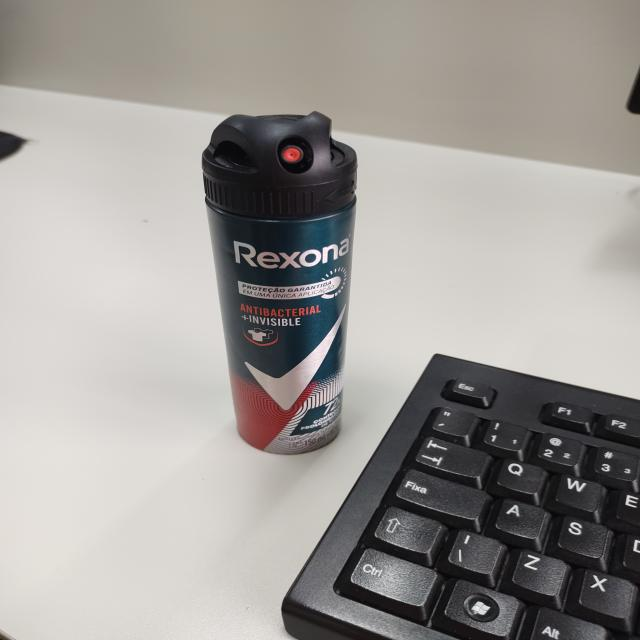Desodorante Azul: (202, 111, 357, 454)
